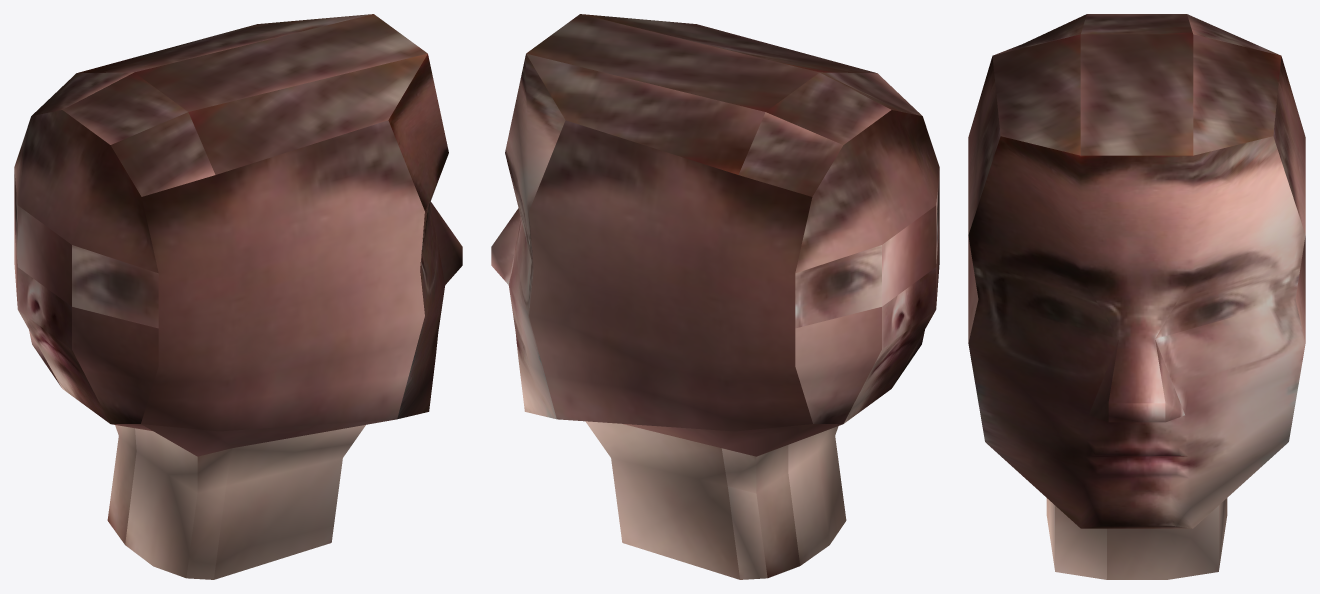
3 renders of one model, left to right at view 1: azimuth 30°, elevation 25°; view 2: azimuth 150°, elevation 25°; view 3: azimuth 270°, elevation 25°, orthographic. The views are drawn at different scales.
Visible parts, largest first — view 1: Cube; view 2: Cube; view 3: Cube.
Part boxes in pixels (bbox=[...]): Cube: bbox=[14, 14, 462, 579]; Cube: bbox=[491, 14, 939, 579]; Cube: bbox=[968, 14, 1305, 579].
Size of the model in its own units: 2.7 by 2.95 by 1.88.
1 material, 1 textured.
